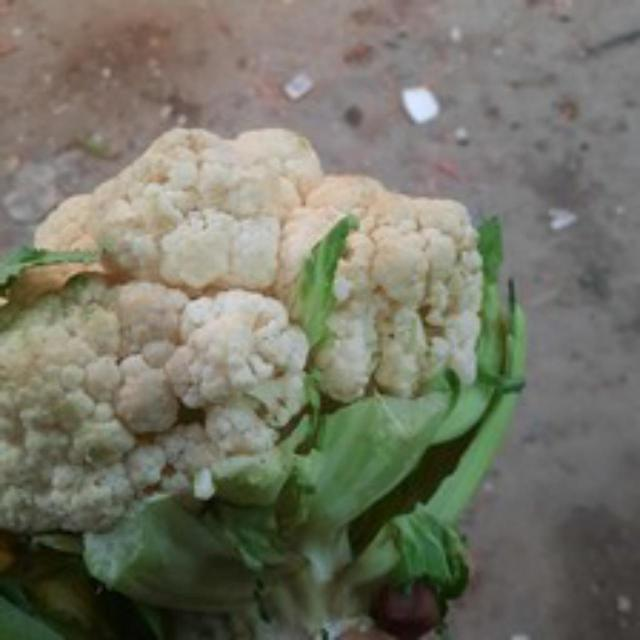cauliflower: (0, 118, 497, 600)
